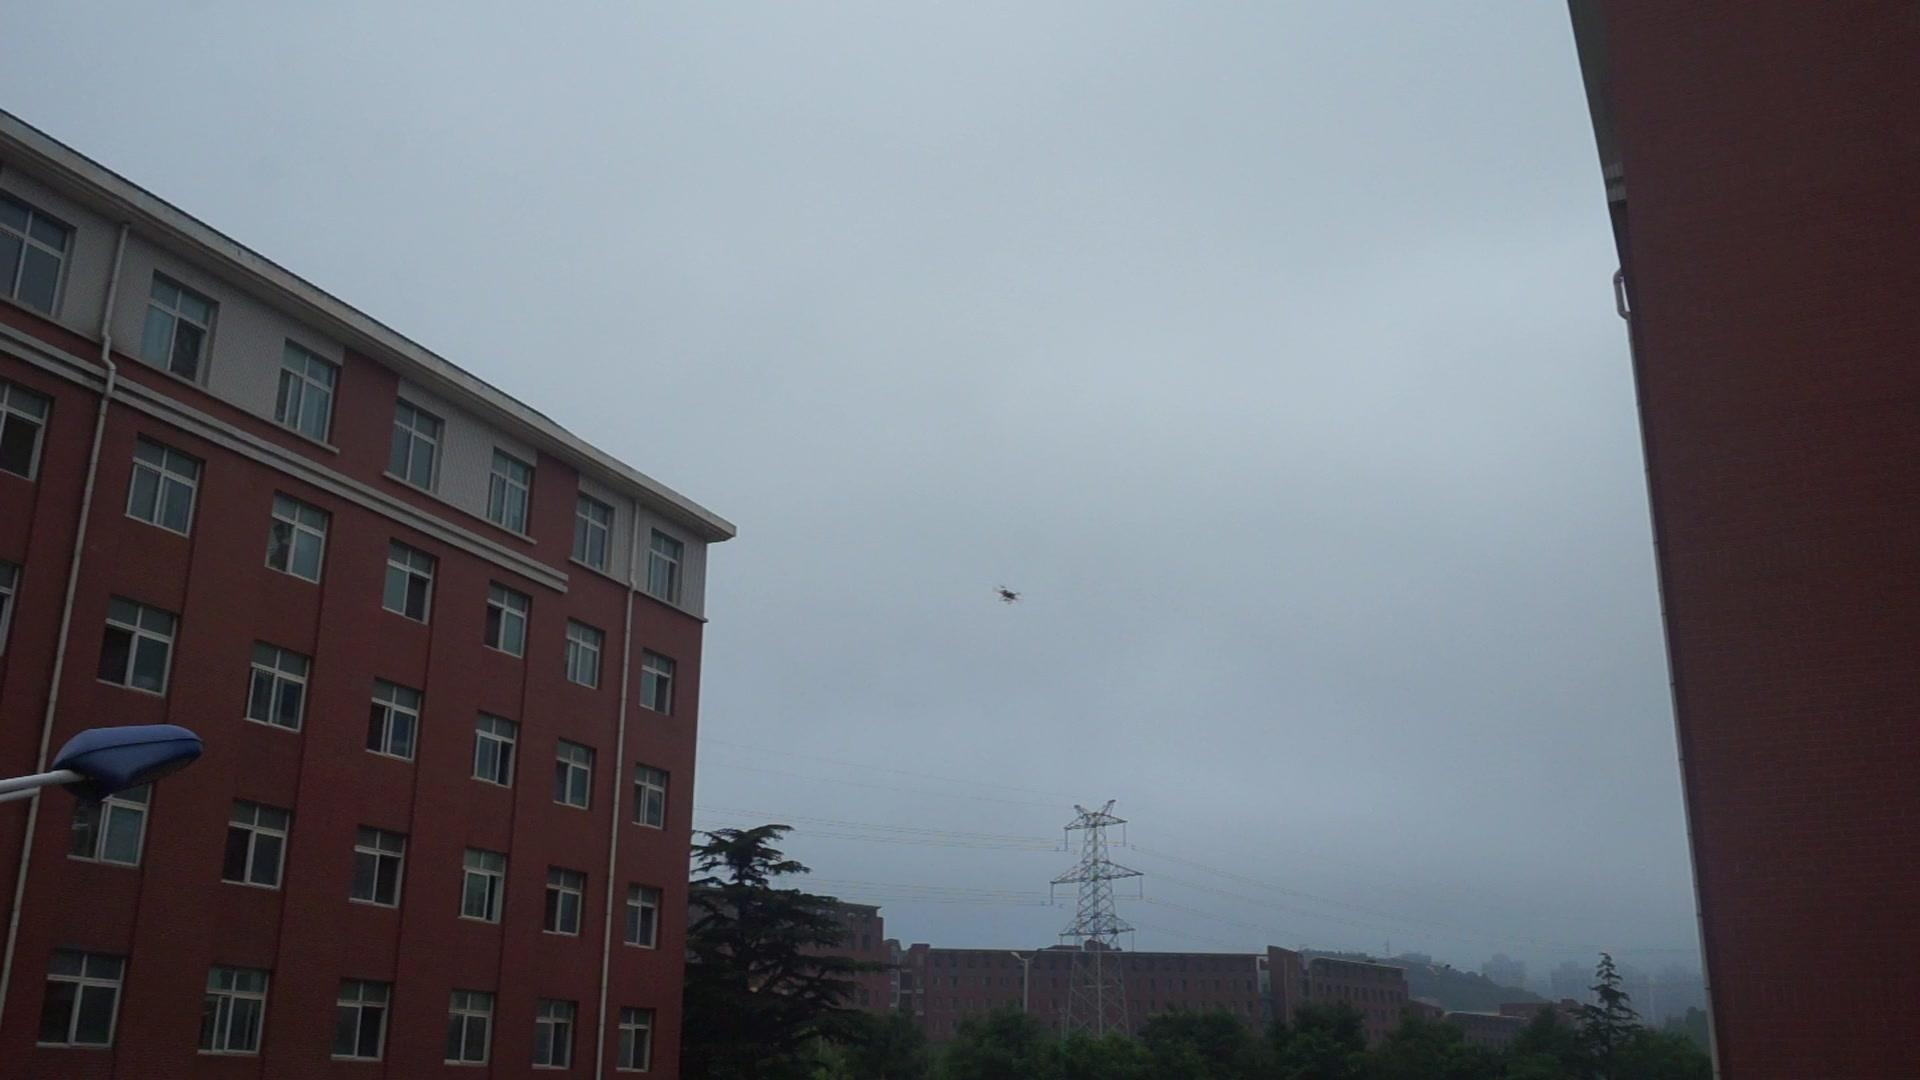UAV: (993, 585, 1022, 607)
